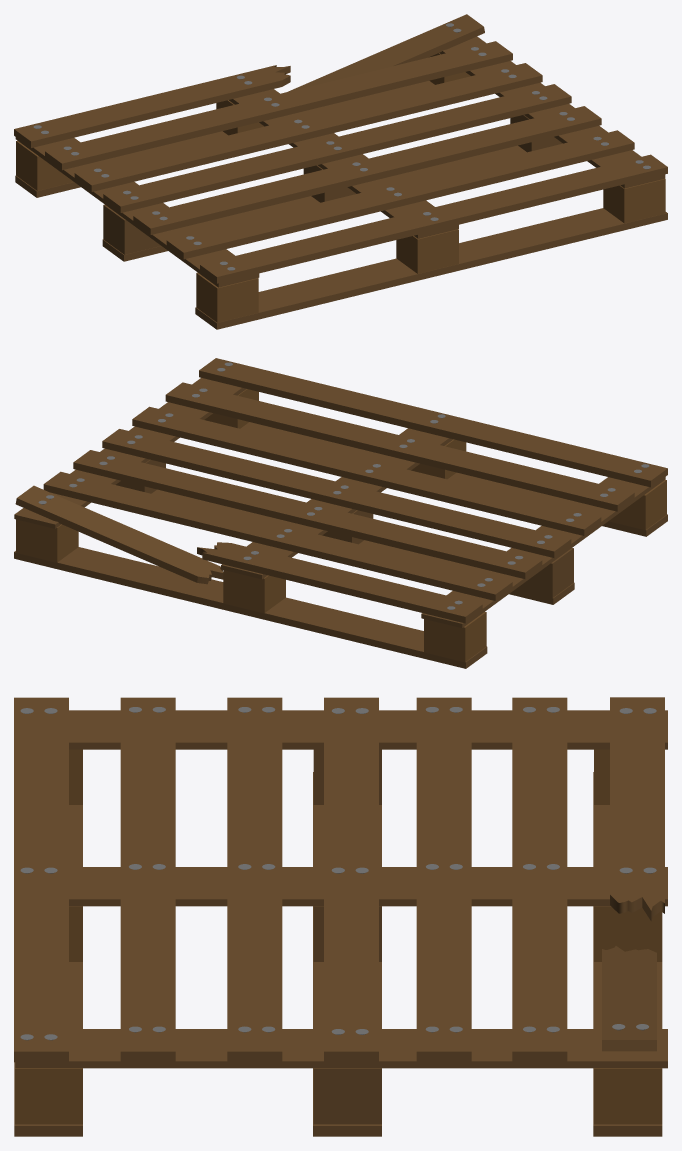
File: PaletteKaputt.fbx
The picture shows the model from 3 angles, top to bottom: view 1: azimuth 30°, elevation 25°; view 2: azimuth 150°, elevation 25°; view 3: azimuth 270°, elevation 25°; orthographic projection. The views are drawn at different scales.
Parts seen in each view (by area): view 1: polySurface17; view 2: polySurface17; view 3: polySurface17.
Boxes of the visible parts, x1,y1,x2,y2 form: polySurface17: (14, 14, 667, 329); polySurface17: (14, 358, 667, 668); polySurface17: (14, 697, 667, 1136).
Bounding box in the file's own units: 260 × 32.75 × 203.
